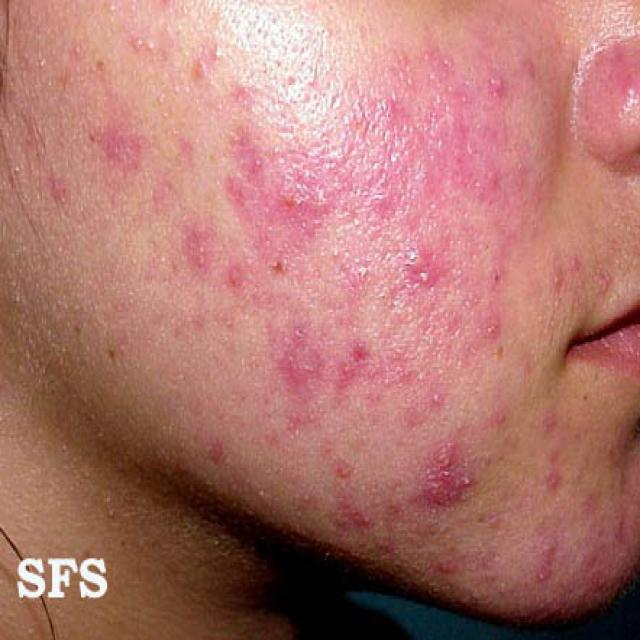Acne: (121, 12, 229, 87), (343, 269, 408, 389), (530, 546, 627, 616), (473, 81, 532, 196), (321, 469, 404, 539), (187, 239, 263, 298), (91, 119, 164, 175), (228, 148, 292, 208), (366, 97, 442, 141), (396, 144, 457, 198), (261, 412, 330, 458), (467, 306, 535, 352), (551, 252, 623, 288), (361, 176, 411, 227), (446, 447, 486, 507), (221, 57, 273, 103), (55, 50, 117, 88), (510, 58, 564, 100), (542, 456, 588, 504), (599, 58, 640, 108), (264, 188, 322, 223), (282, 358, 338, 394), (411, 250, 466, 286), (282, 316, 336, 350), (427, 546, 470, 588), (34, 172, 80, 208), (198, 434, 236, 477), (484, 408, 530, 442), (540, 414, 586, 446), (417, 458, 445, 507), (421, 393, 465, 414), (271, 261, 306, 284), (338, 270, 346, 271)
